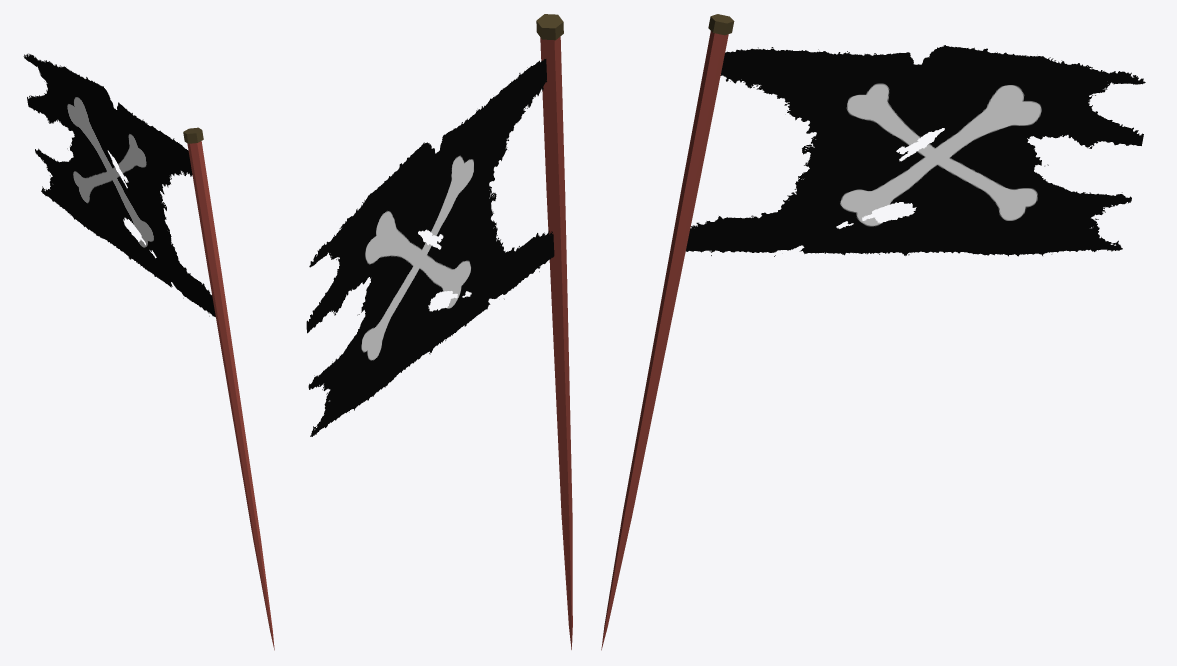
Rendered from Flag.fbx.
The picture shows the model from 3 angles, left to right: view 1: azimuth 30°, elevation 25°; view 2: azimuth 150°, elevation 25°; view 3: azimuth 270°, elevation 25°; orthographic projection. The views are drawn at different scales.
Parts seen in each view (by area): view 1: Flag, FlagPole; view 2: Flag, FlagPole; view 3: Flag, FlagPole.
Part boxes in pixels (left/top/right/bottom): Flag: left=23, top=53, right=215, bottom=317; FlagPole: left=183, top=127, right=274, bottom=650; Flag: left=306, top=59, right=554, bottom=436; FlagPole: left=536, top=14, right=572, bottom=649; Flag: left=686, top=45, right=1145, bottom=256; FlagPole: left=601, top=14, right=734, bottom=650.
Size of the model in its own units: 9.67 by 111 by 92.24.
